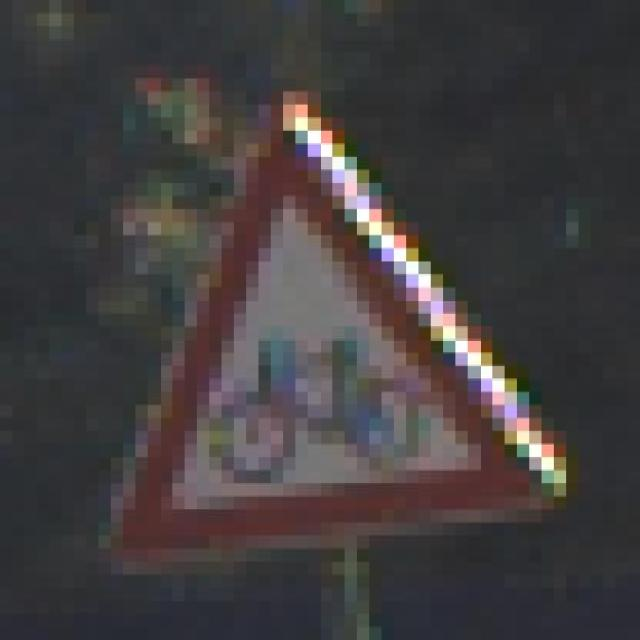CYCLE ROUTE AHEAD WARNING: (74, 78, 578, 574)
